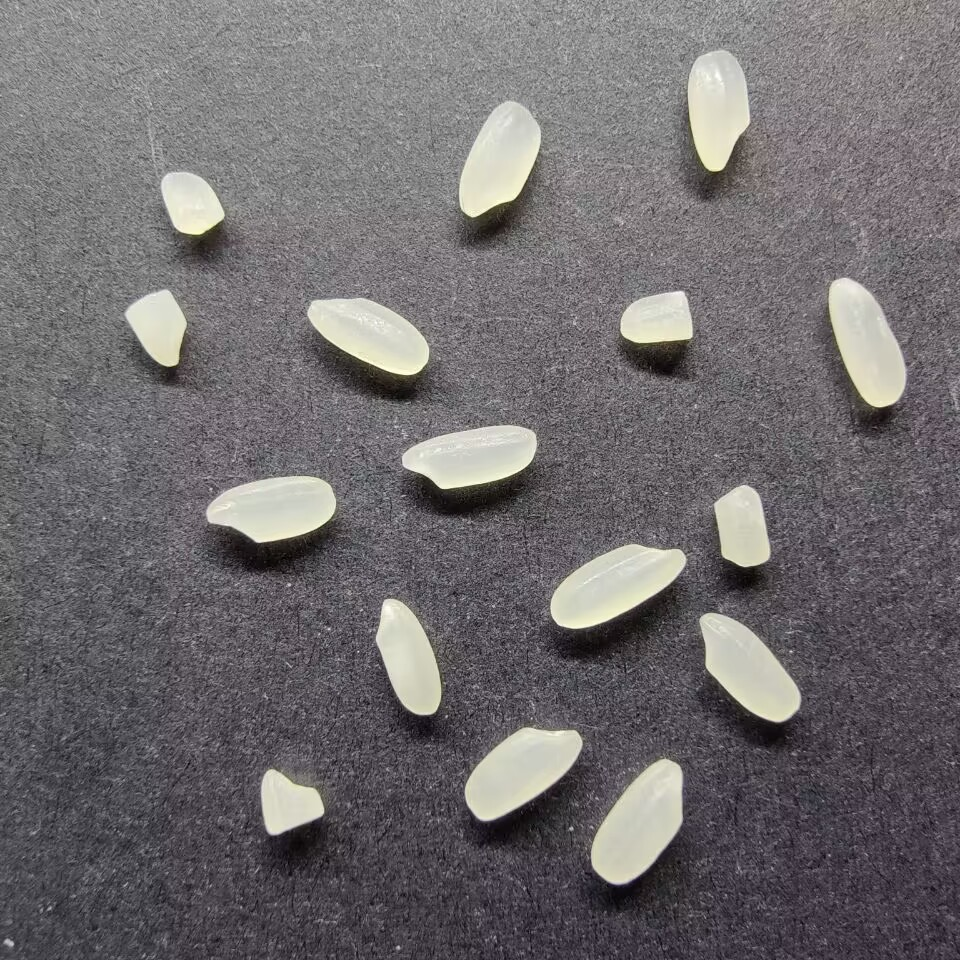broken: (710, 483, 773, 569), (123, 287, 189, 369), (258, 767, 327, 838), (156, 170, 226, 237), (617, 290, 695, 344)
rice: (587, 756, 686, 887), (548, 541, 686, 630), (697, 610, 802, 724), (461, 726, 584, 822), (827, 277, 908, 408), (303, 295, 430, 376), (455, 99, 541, 218), (203, 475, 338, 543), (399, 425, 537, 491), (373, 596, 441, 716), (686, 48, 750, 173)
